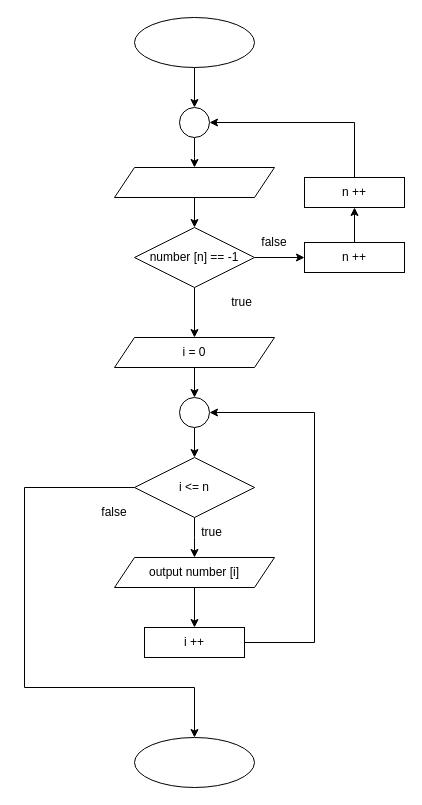
Image size: 422x805. Some labels were removed from this diagram. Each missing label, with the box of its shape:
end: (134, 736, 254, 788)
input number [n]: (114, 166, 274, 198)
start: (134, 16, 254, 68)
